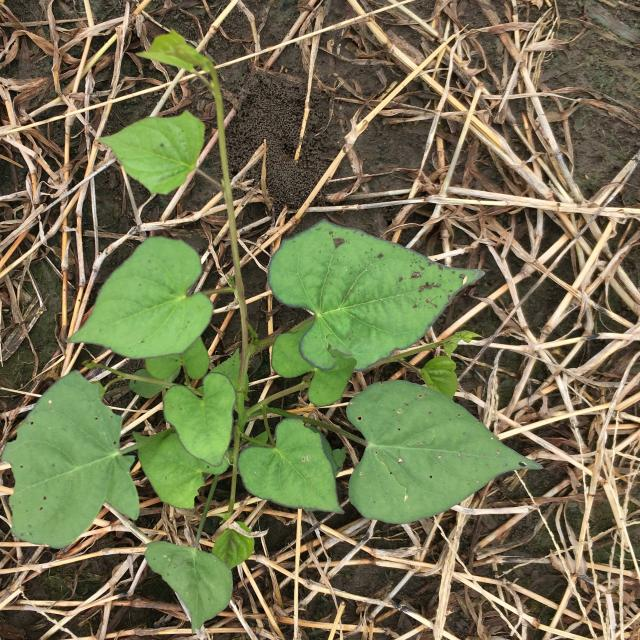MorningGlory: (1, 29, 545, 633)
